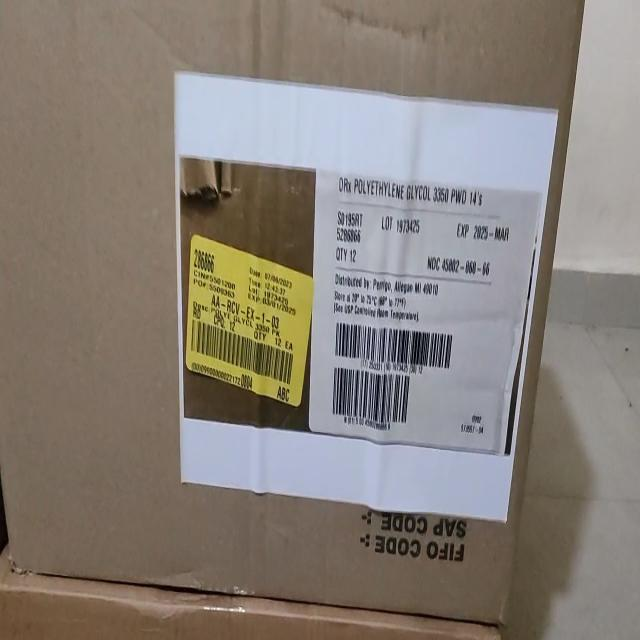BoxFace: (2, 3, 584, 630)
